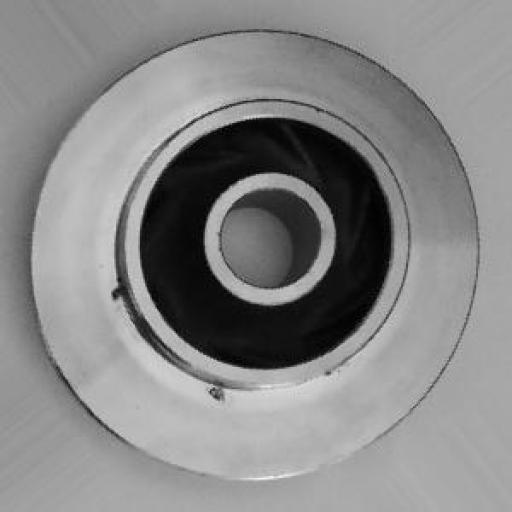defect: (92, 266, 236, 409)
